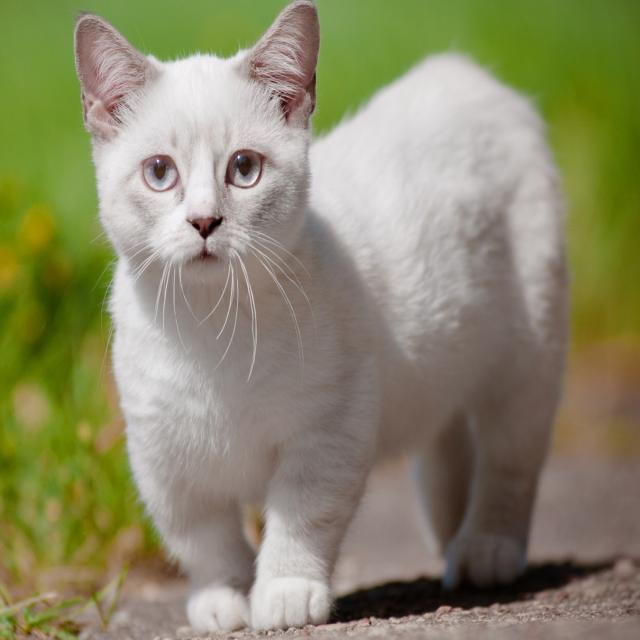Munchkin: (70, 0, 571, 635)
